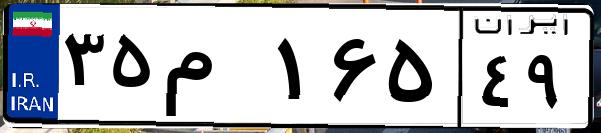1: (270, 28, 330, 110)
3: (57, 26, 110, 100)
4: (475, 38, 525, 113)
5: (385, 28, 445, 110), (110, 28, 158, 98)
6: (330, 28, 385, 110)
9: (525, 38, 570, 115)
م: (158, 20, 270, 120)
